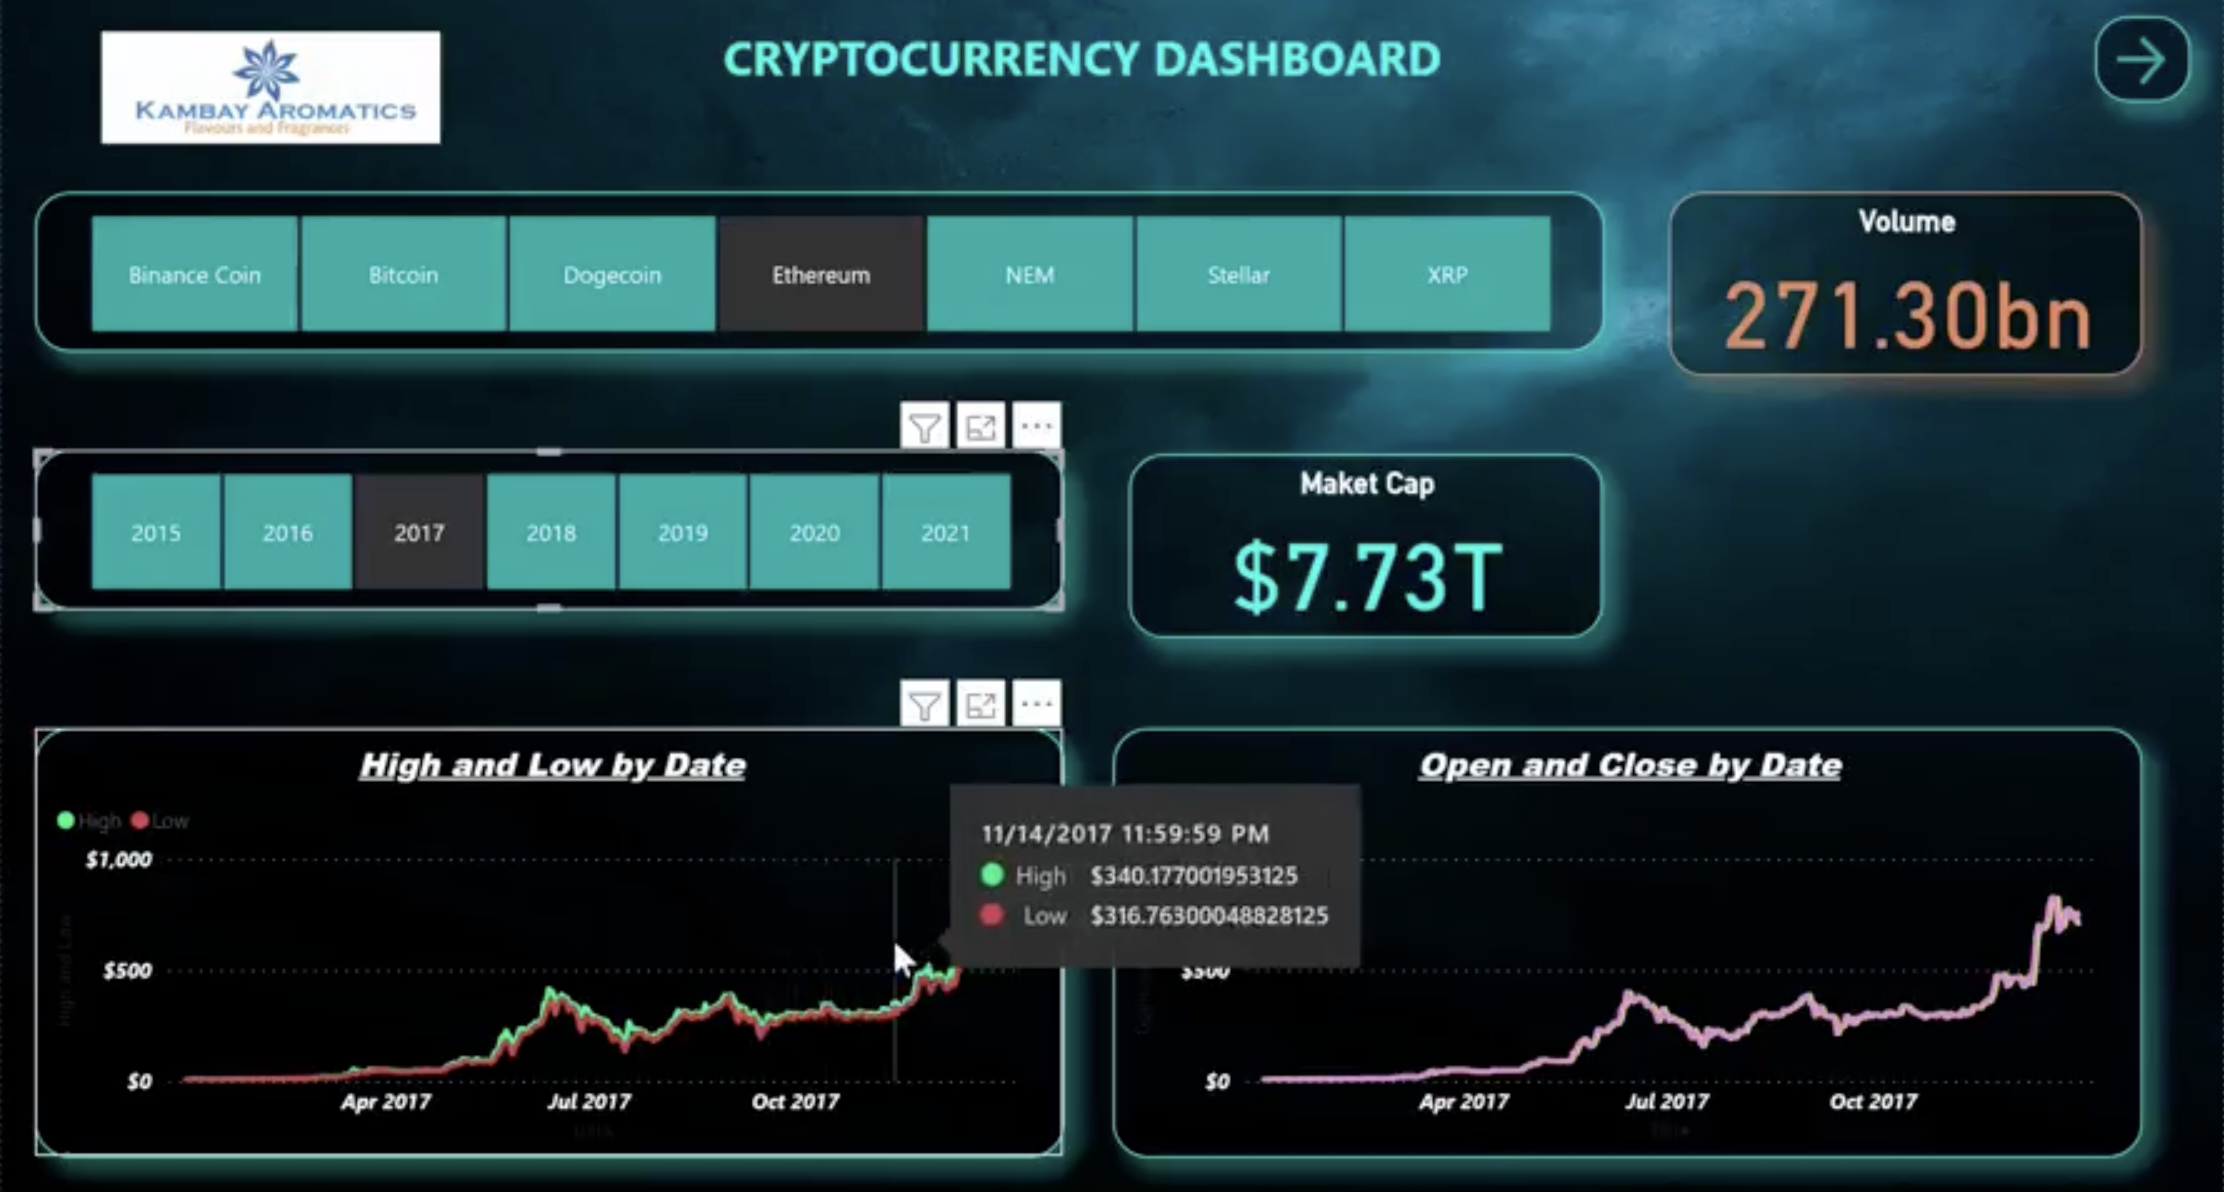

This screenshot's page, from the dashboard's own definition file:
{"tool":"powerbi","page":{"name":"Page 2","canvas":[1280,720],"ordinal":1},"visuals":[{"type":"slicer","fields":{"Values":["CryptoData CSV.Name"]},"box":[19.1,118.6,903.9,91.8],"z":0},{"type":"slicer","fields":{"Values":["CryptoData CSV.Year"]},"box":[19.1,267.7,592.8,91.8],"z":1000},{"type":"lineChart","fields":{"Y":["Sum(CryptoData CSV.High)","Sum(CryptoData CSV.Low)"],"Category":["CryptoData CSV.Date"]},"box":[19.1,427.1,592.8,247.3],"z":2000},{"type":"actionButton","box":[1206.1,17.8,54.8,49.7],"z":3000},{"type":"image","box":[53,17.3,205.1,81.8],"z":4000},{"type":"textbox","box":[411.8,17.8,455.1,48.4],"z":5000},{"type":"card","title":"Volume","fields":{"Values":["Sum(CryptoData CSV.Volume)"]},"box":[961.3,118.6,272.8,105.8],"z":6000},{"type":"card","title":"Maket Cap","fields":{"Values":["Sum(CryptoData CSV.Marketcap)"]},"box":[650,270.1,272.8,105.8],"z":7000},{"type":"lineChart","fields":{"Y":["Sum(CryptoData CSV.Open)","Sum(CryptoData CSV.Close)"],"Category":["CryptoData CSV.Date"]},"box":[640,427.1,592.8,247.3],"z":7001}]}

Visuals, with their boxes on the page's 1280x720 design canvas (x1, y1, x2, y2). These are canvas units, not pixel positions in the 2224x1192 screenshot, which may show the page scaled, cropped or inside an application window:
slicer - CryptoData CSV.Name: region(19, 119, 923, 210)
slicer - CryptoData CSV.Year: region(19, 268, 612, 360)
lineChart - Sum(CryptoData CSV.High) x Sum(CryptoData CSV.Low): region(19, 427, 612, 674)
actionButton: region(1206, 18, 1261, 68)
image: region(53, 17, 258, 99)
textbox: region(412, 18, 867, 66)
"Volume" card: region(961, 119, 1234, 224)
"Maket Cap" card: region(650, 270, 923, 376)
lineChart - Sum(CryptoData CSV.Open) x Sum(CryptoData CSV.Close): region(640, 427, 1233, 674)
